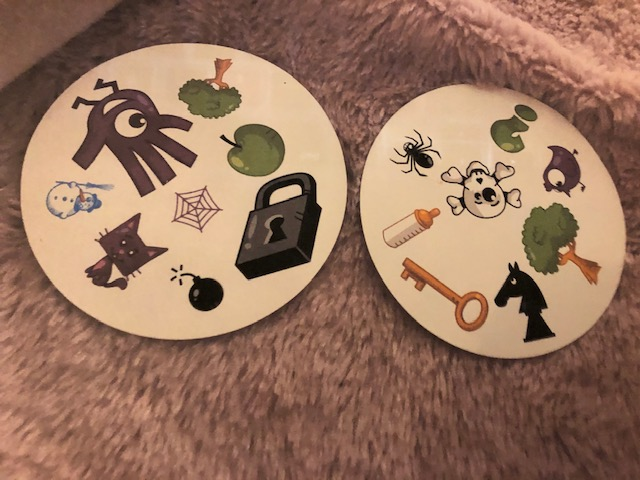araignee: (386, 123, 445, 182)
arbre: (515, 201, 605, 287), (179, 54, 242, 121)
biberon: (379, 203, 447, 253)
bombe: (165, 262, 225, 312)
bonhomme_neige: (44, 176, 116, 221)
cadenas: (229, 164, 323, 277)
chat: (79, 206, 174, 295)
cheval: (493, 262, 557, 346)
cle: (399, 251, 492, 330)
dooble: (56, 71, 208, 195)
oiseau: (535, 142, 590, 198)
point_interrogation: (487, 100, 540, 155)
pomme: (216, 118, 288, 178)
tete_mort: (435, 155, 528, 221)
toile: (166, 179, 228, 237)
